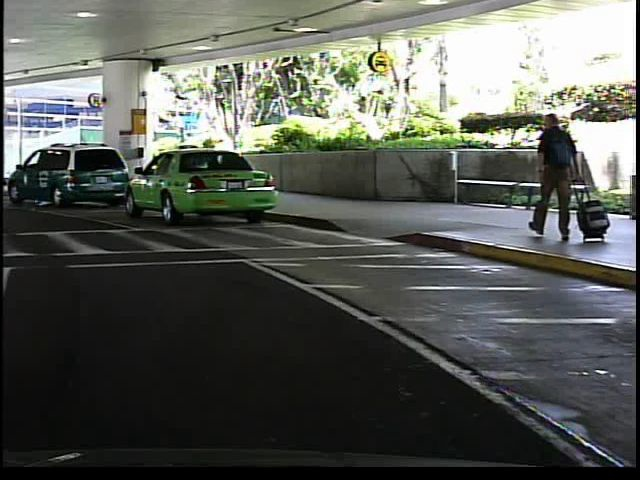person: (521, 105, 584, 249)
